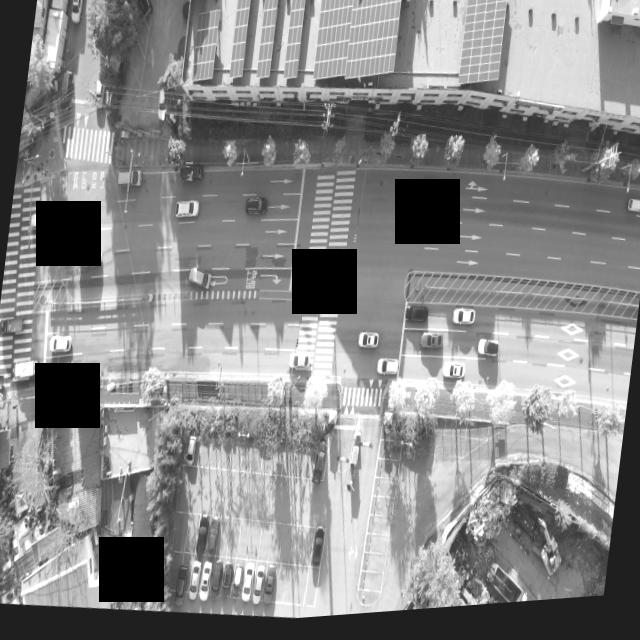car: (58, 68, 74, 112), (117, 170, 144, 193), (30, 209, 56, 231), (314, 447, 328, 487), (263, 569, 277, 609), (186, 271, 210, 294), (174, 202, 198, 224), (194, 519, 207, 559), (311, 533, 324, 572), (207, 521, 220, 560), (418, 337, 442, 358), (218, 564, 232, 600), (154, 91, 168, 125), (174, 565, 187, 601), (451, 313, 474, 333), (476, 345, 499, 365), (134, 0, 154, 23), (247, 200, 270, 220), (186, 564, 198, 602), (200, 564, 212, 602), (252, 569, 264, 606), (242, 567, 254, 604), (210, 564, 222, 601), (376, 363, 398, 383), (232, 565, 244, 601), (356, 336, 378, 355), (406, 310, 428, 329), (48, 337, 70, 355), (92, 80, 105, 110), (442, 370, 464, 387), (286, 358, 308, 375), (69, 0, 84, 23), (421, 187, 438, 205), (625, 207, 640, 227), (186, 439, 196, 468)
medium_truck: (479, 563, 529, 612)
small_truck: (11, 356, 39, 382), (72, 248, 102, 271), (178, 167, 204, 189), (0, 315, 23, 337), (0, 371, 5, 392)
